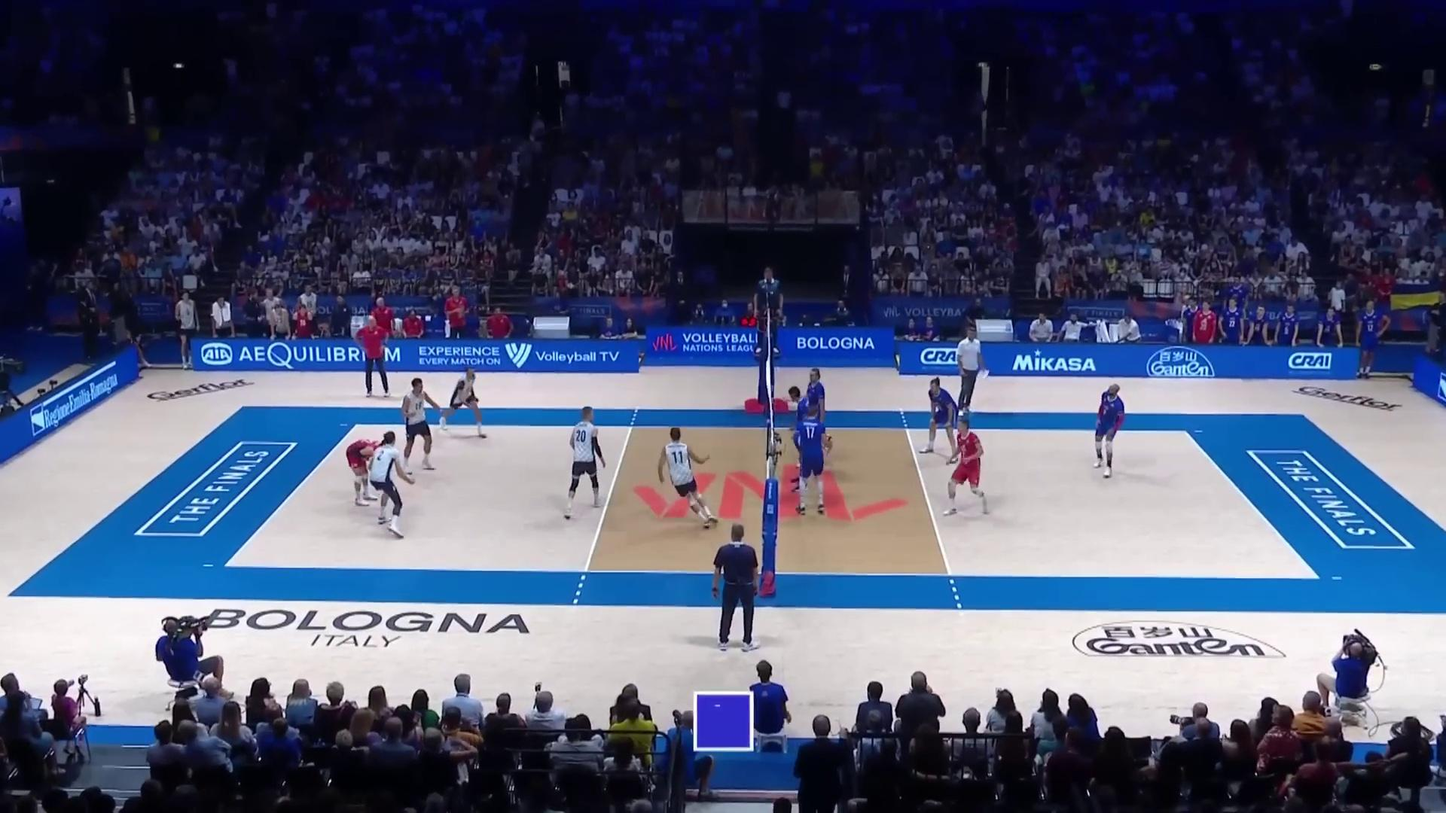player: (658, 426, 720, 529), (366, 432, 411, 541), (564, 407, 606, 520), (945, 420, 990, 518), (792, 405, 830, 515), (398, 377, 441, 472), (439, 366, 487, 440), (920, 377, 958, 461), (345, 440, 391, 506), (1091, 384, 1123, 477), (789, 386, 811, 490), (804, 370, 828, 453)
refree: (712, 526, 760, 651), (756, 269, 786, 356)
